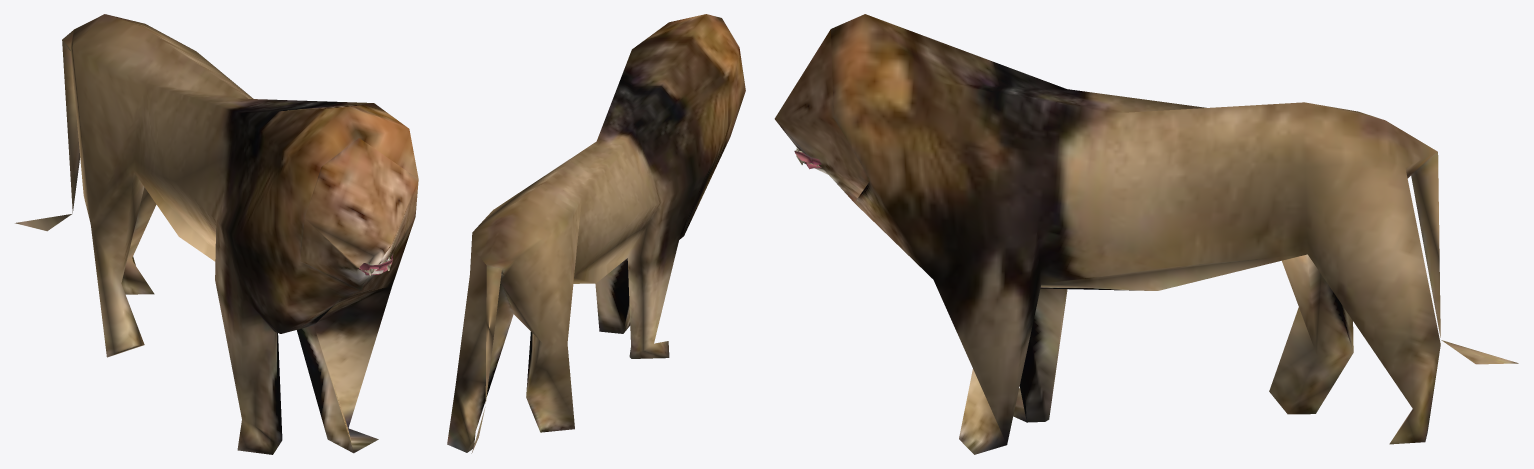
File: Lion.glb
3 views of the same model, side by side, from view 1: azimuth 30°, elevation 25°; view 2: azimuth 150°, elevation 25°; view 3: azimuth 270°, elevation 25° (orthographic). The views are drawn at different scales.
Parts seen in each view (by area): view 1: Obj3d66-11861254-2-630; view 2: Obj3d66-11861254-2-630; view 3: Obj3d66-11861254-2-630.
Boxes of the visible parts, <box> form: Obj3d66-11861254-2-630: <box>15,14,418,454</box>; Obj3d66-11861254-2-630: <box>447,14,745,453</box>; Obj3d66-11861254-2-630: <box>774,14,1518,454</box>.
Size of the model in its own units: 0.2644 by 0.7041 by 1.18.
2 materials, 2 textured.
